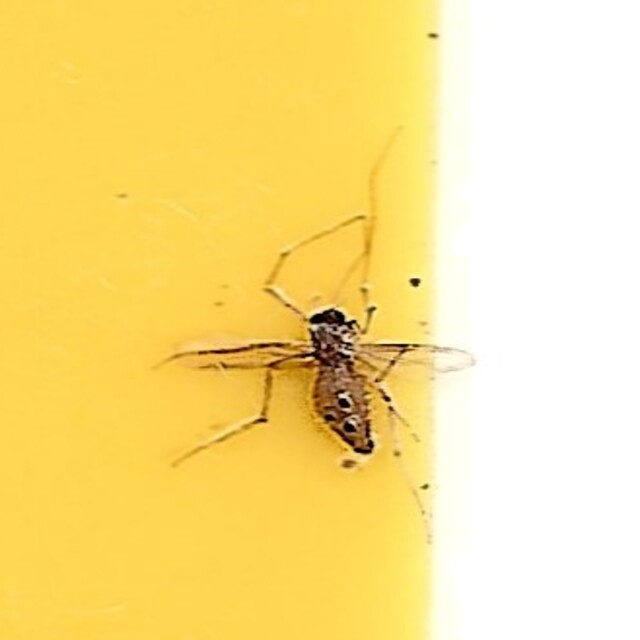Nematocera: (195, 160, 445, 480)
